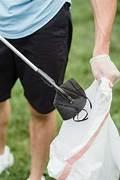Glove: (90, 54, 119, 86)
